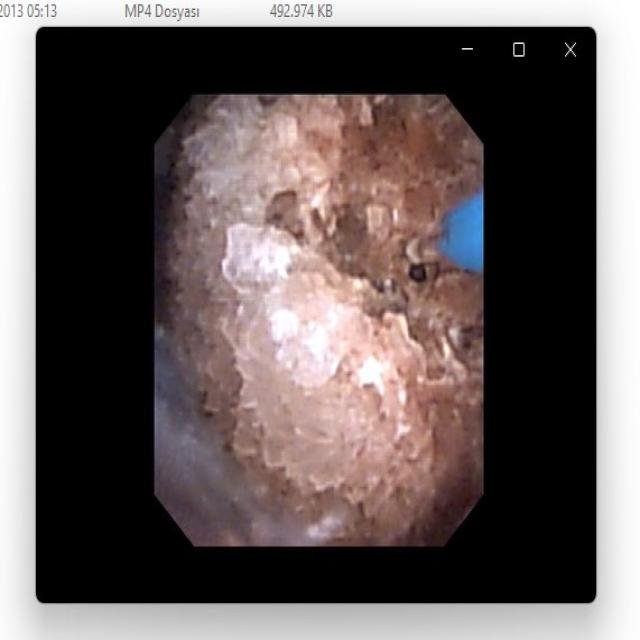fiber: (443, 196, 478, 270)
stone: (165, 102, 479, 536)
